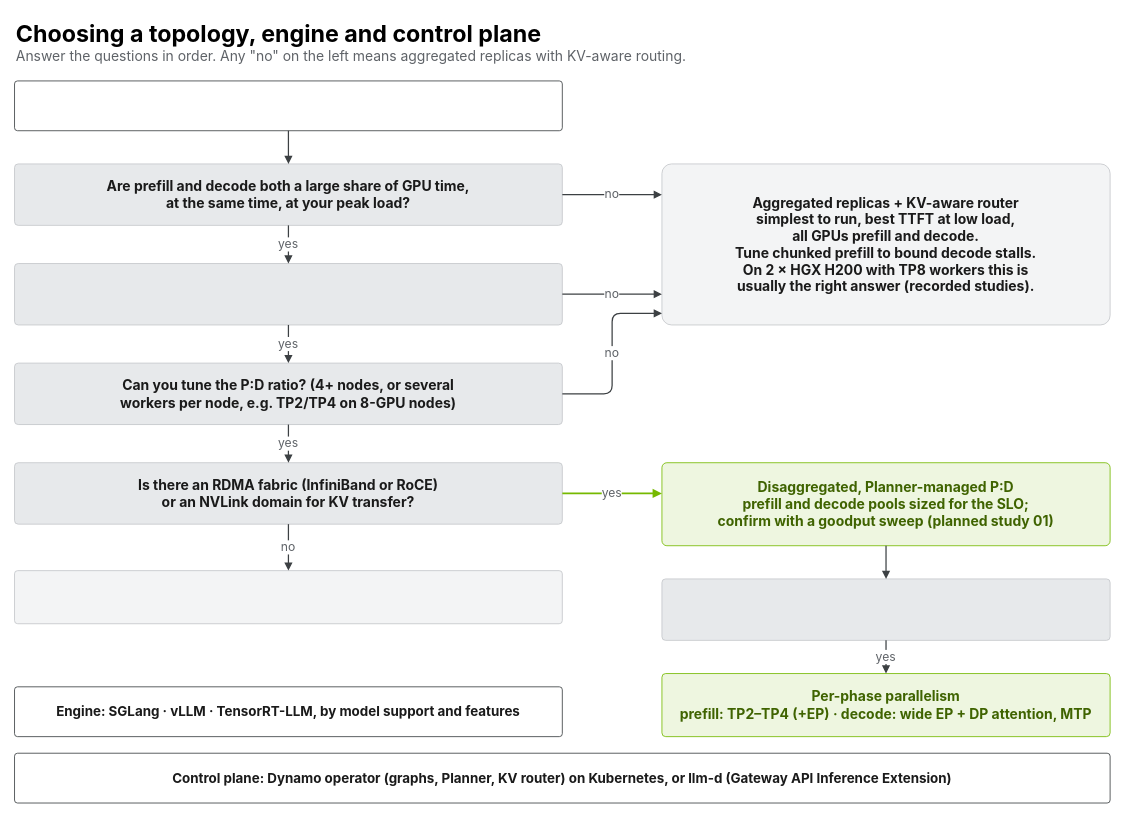
The diagram is 1125 pixels wide and 818 high, and some of its shapes have lost their labels. Each missing label, with the box of its shape:
Aggregated: KV transfer over TCP would cost more than it saves: (14, 570, 562, 624)
Is p99 inter-token latency a hard SLO?: (14, 263, 562, 325)
MoE or MLA model (DeepSeek-class, Nemotron Ultra)?: (661, 578, 1110, 640)
Workload: ISL and OSL distributions, request rate, p99 TTFT and ITL targets: (14, 80, 562, 131)
